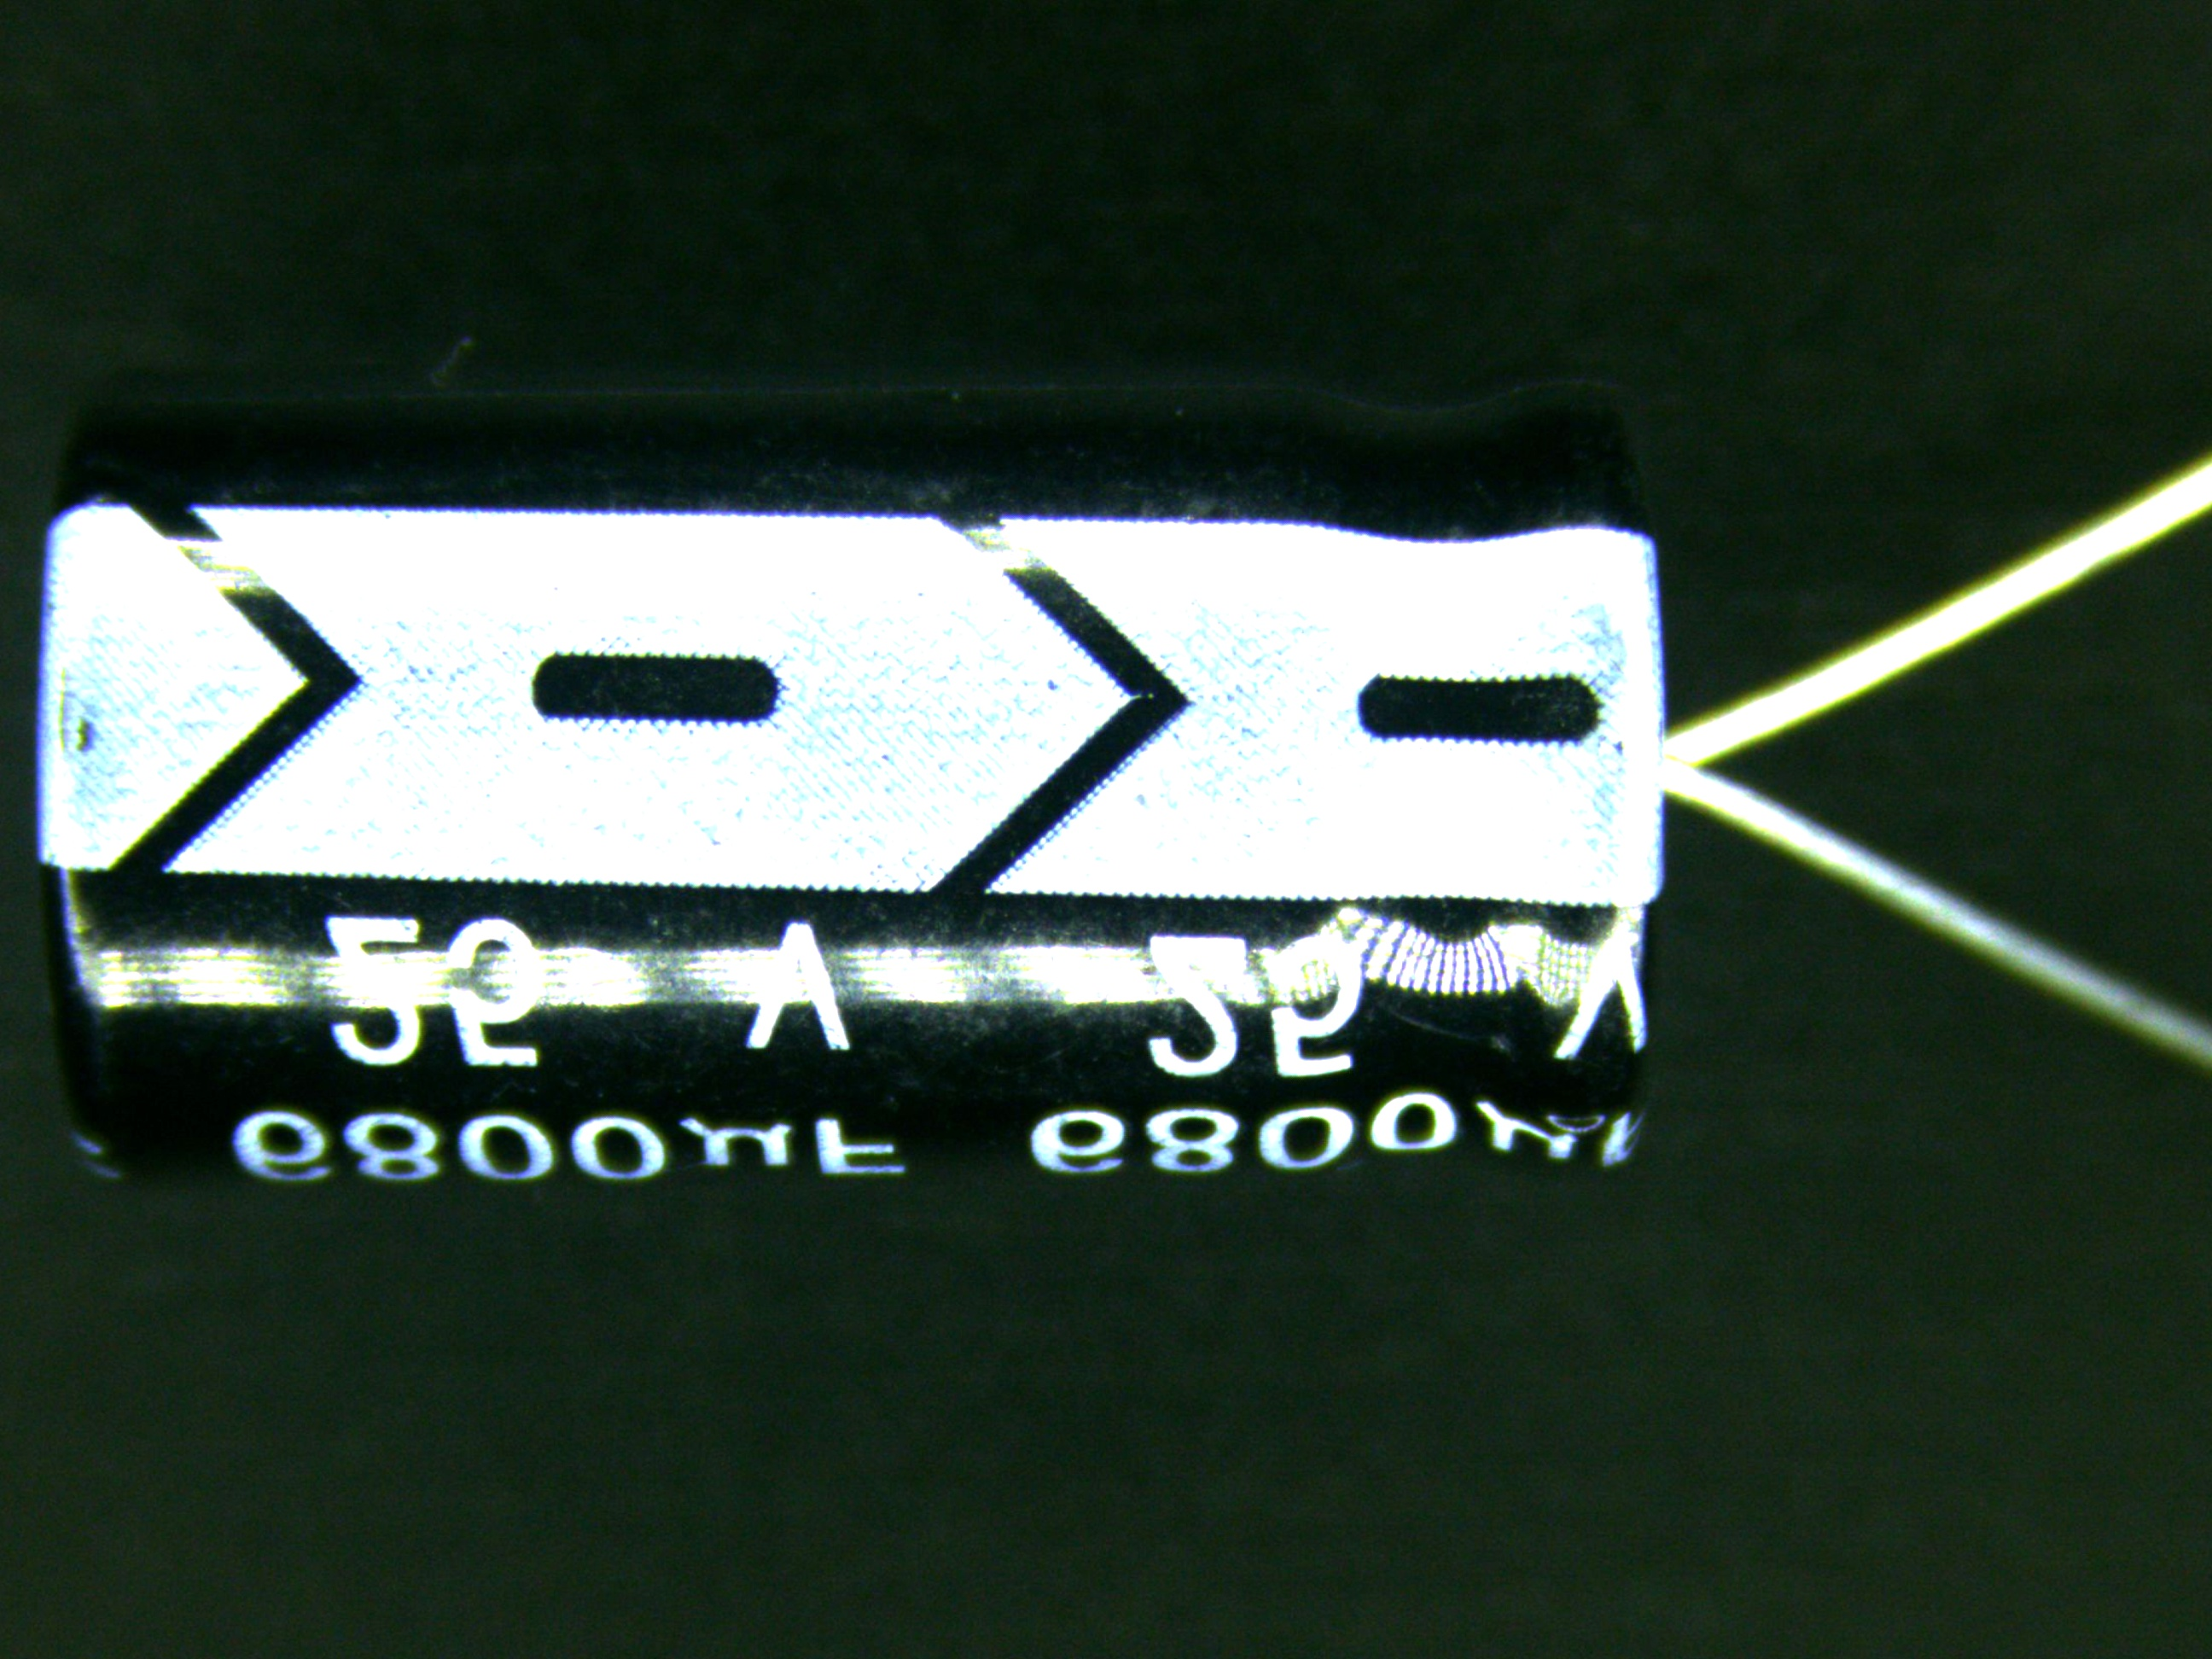c3: (23, 350, 2041, 1208)
